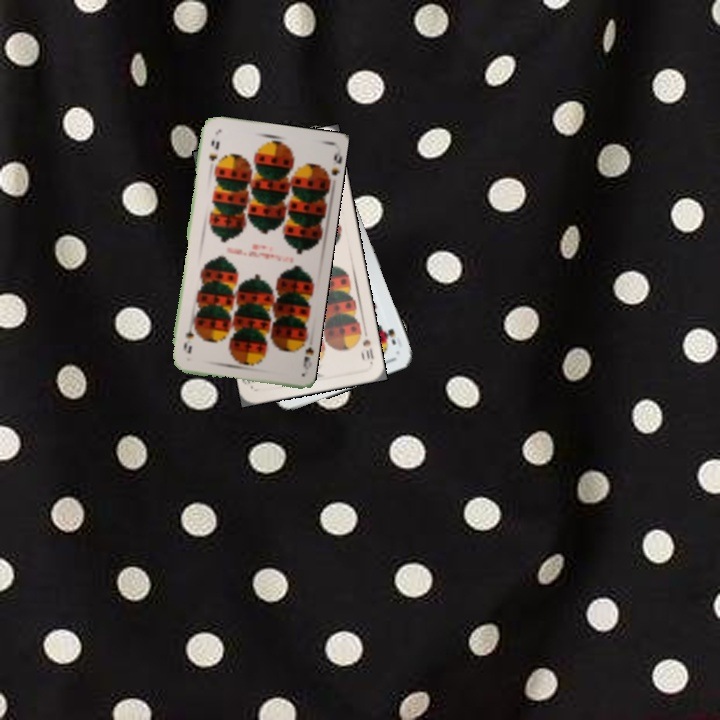S10: (355, 327, 376, 366)
S9: (295, 333, 315, 372), (205, 136, 222, 164)
SK: (380, 325, 399, 347)
